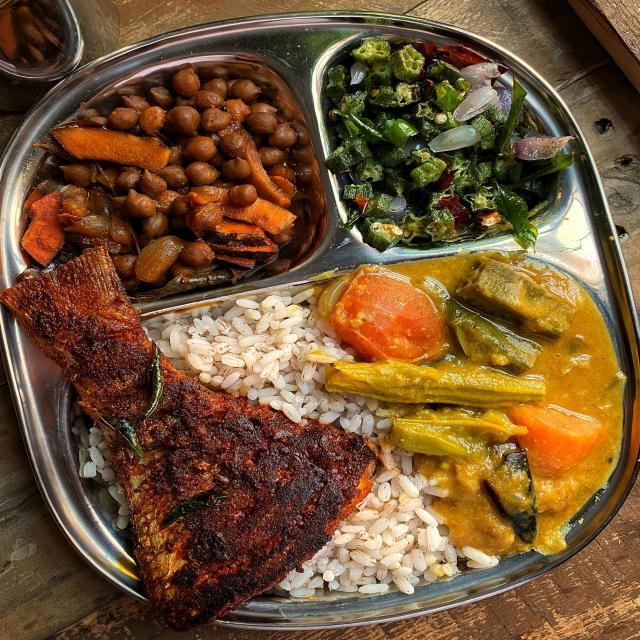Bhindi Masala: (323, 25, 559, 257)
Dal: (36, 51, 297, 286)
Sambhar: (373, 267, 617, 532)
White Rice: (169, 311, 341, 386)
